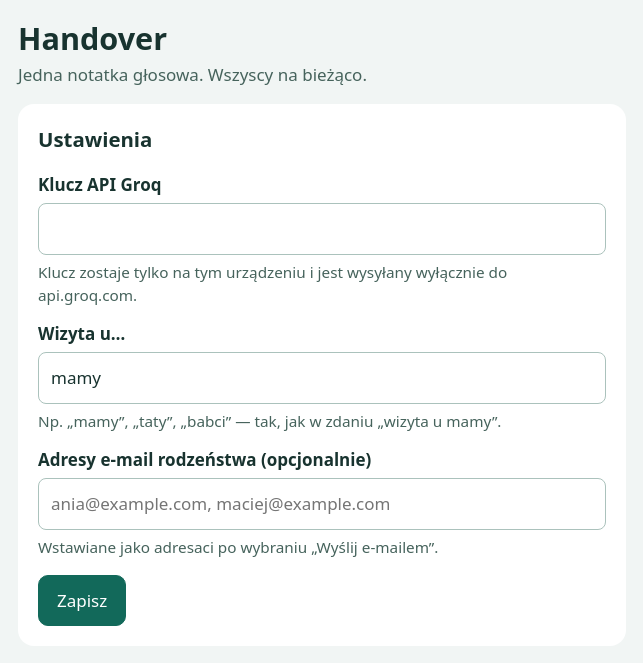
Test: App › asks for the API key first and remembers it
expect the heading "Handover" is shown: met, box left=18, top=16, right=167, bottom=62
Type "test-key" into the password field labelled "Klucz API Groq". click: (322, 229)
box: left=38, top=203, right=606, bottom=255
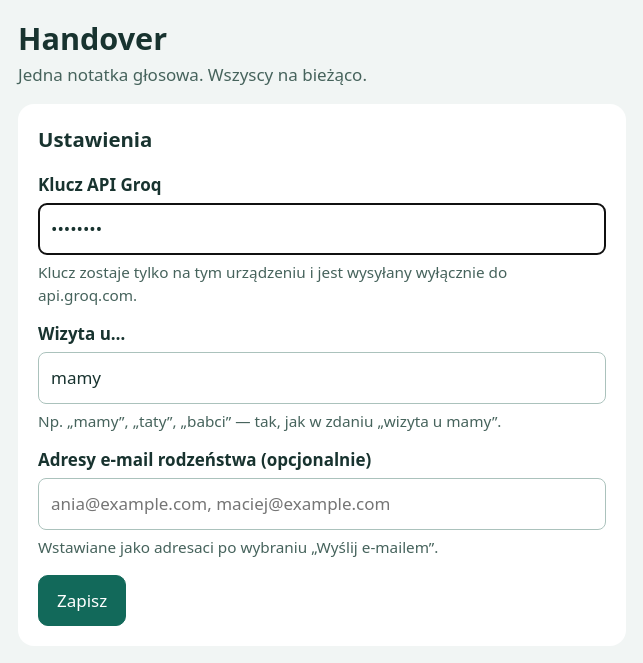
Type "taty" into the field labelled "Wizyta u…". click: (322, 378)
box: left=38, top=352, right=606, bottom=404
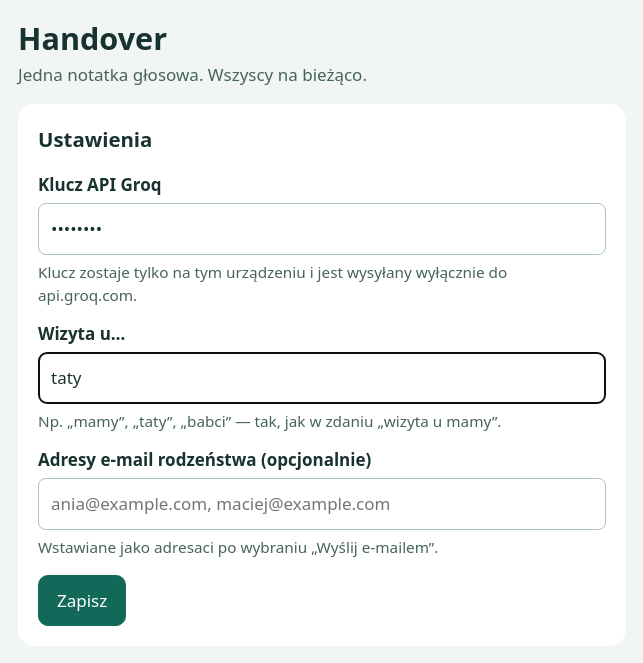
Click the button "Zapisz". click: (82, 600)
box: left=38, top=575, right=126, bottom=626
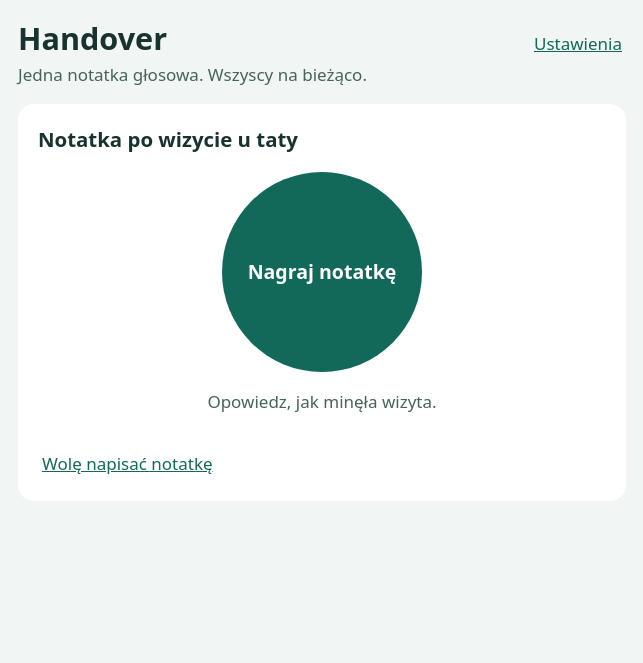
expect the heading "Notatka po wizycie u taty" is shown: met, box left=38, top=125, right=298, bottom=153
